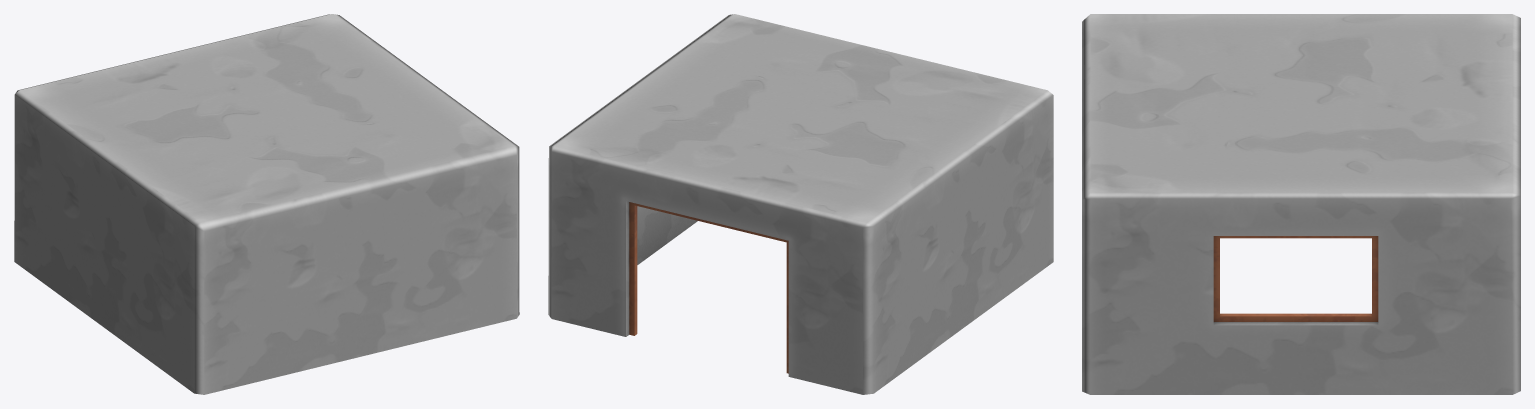
File: stone_build_2.fbx
The picture shows the model from 3 angles, left to right: view 1: azimuth 30°, elevation 25°; view 2: azimuth 150°, elevation 25°; view 3: azimuth 270°, elevation 25°; orthographic projection. The views are drawn at different scales.
Parts seen in each view (by area): view 1: stone_build_2; view 2: stone_build_2; view 3: stone_build_2.
Part boxes in pixels (x1=…): stone_build_2: x1=14, y1=14, x2=519, y2=394; stone_build_2: x1=548, y1=14, x2=1053, y2=394; stone_build_2: x1=1082, y1=14, x2=1520, y2=394.
Bounding box in the file's own units: 400 × 200 × 400.
